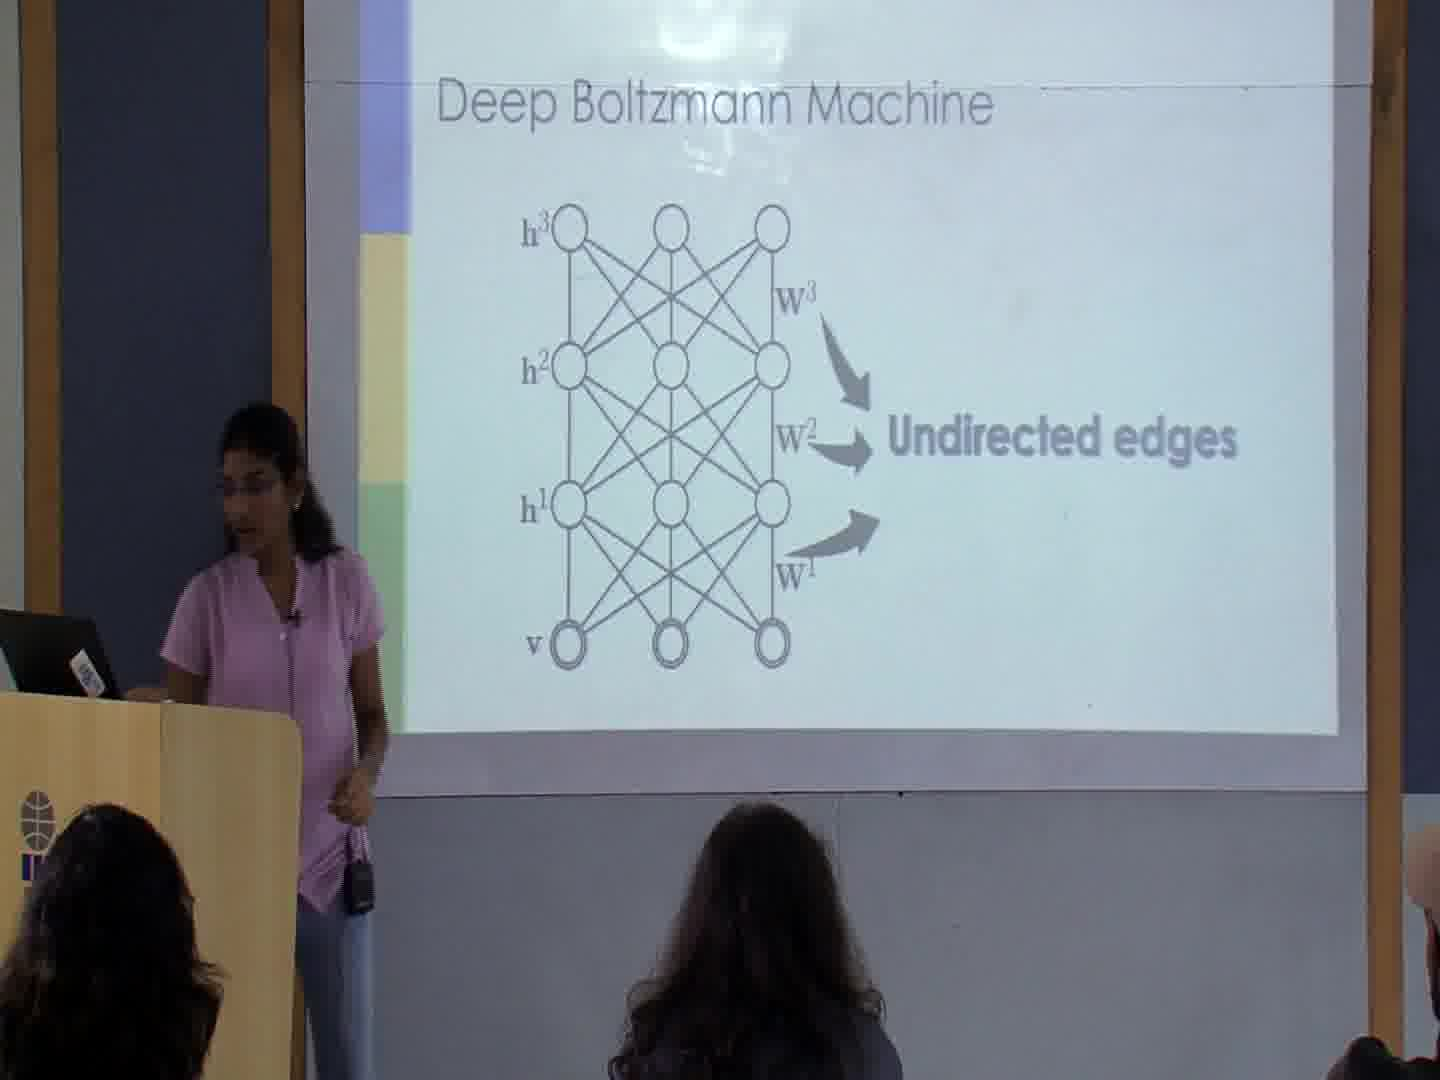fig: (549, 189, 797, 674)
